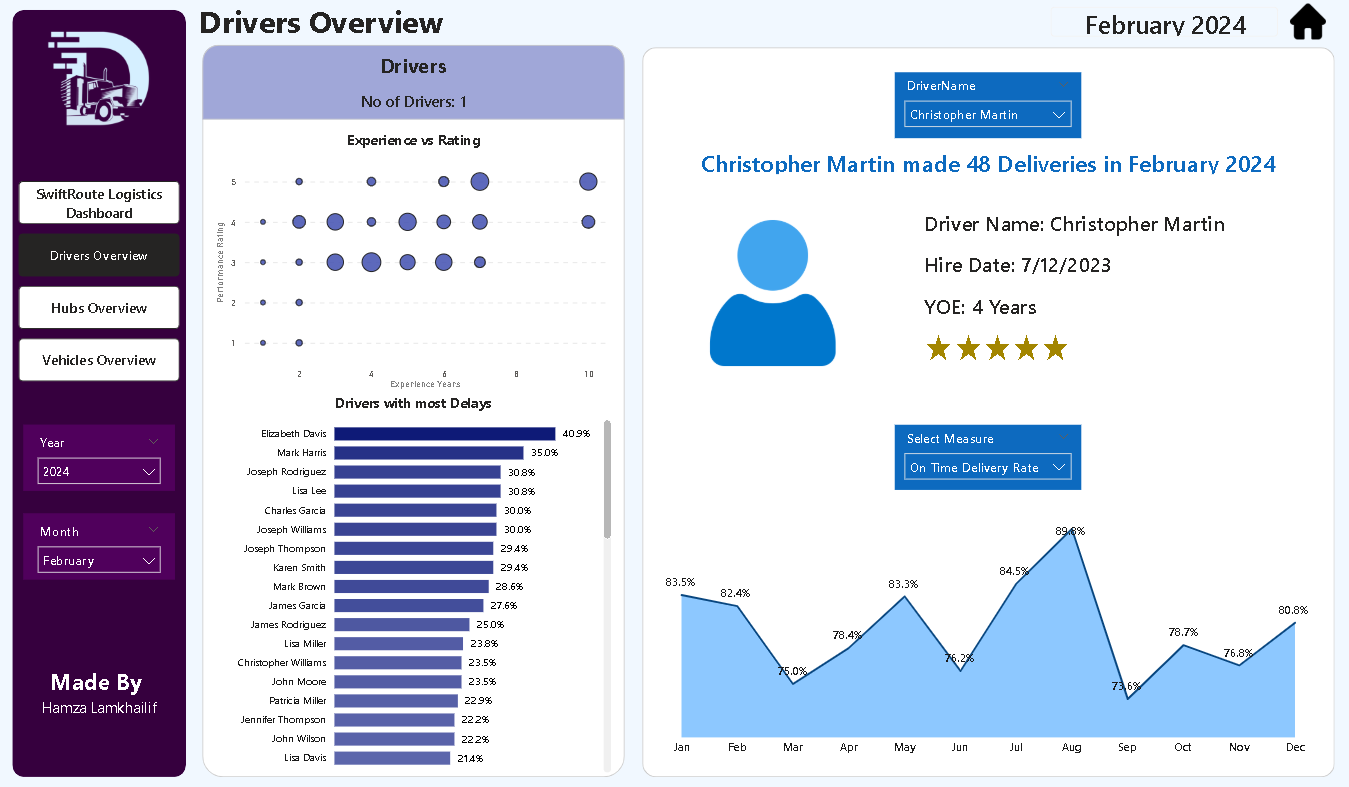

The page's visual inventory and layout, read from the dashboard file:
{"tool":"powerbi","page":{"name":"Drivers Overview","canvas":[1450,850],"ordinal":1},"visuals":[{"type":"shape","box":[17.4,14.7,185.5,819.6],"z":0},{"type":"textbox","box":[212.2,0,279,53.4],"z":1000},{"type":"slicer","fields":{"Values":["Date Table.Year"]},"box":[30,457.7,161.4,70],"z":2000},{"type":"slicer","fields":{"Values":["Date Table.Month"]},"box":[30,552.9,161.4,70],"z":3000},{"type":"shape","box":[220.2,54.7,451.2,779.5],"z":4000},{"type":"shape","box":[220.2,52.1,451.2,80.1],"z":5000},{"type":"textbox","box":[312.3,54.7,267,52.1],"z":6000},{"type":"cardVisual","fields":{"Data":["Drivers.No of Drivers"]},"box":[320.4,93.4,250.9,33.4],"z":7000},{"type":"scatterChart","title":"Experience vs Rating","fields":{"X":["Drivers.Experience Years"],"Y":["Drivers.Performance Rating"],"Size":["Sum(Drivers.Experience Years)1"]},"box":[229.6,142.8,432.5,281.6],"z":8000},{"type":"barChart","title":"Drivers with most Delays","fields":{"Category":["Drivers.DriverName"],"Y":["Orders.Delayed Delivery Rate"]},"box":[229.6,424.5,432.5,409.8],"z":9000},{"type":"image","box":[40,27.1,141.4,131.4],"z":10000},{"type":"cardVisual","fields":{"Data":["Orders.Year Month Title"]},"box":[1121.2,6.7,253.6,42.7],"z":11000},{"type":"shape","box":[690.1,54.7,739.5,779.5],"z":12000},{"type":"slicer","fields":{"Values":["Drivers.DriverName"]},"box":[959.7,81.4,198.9,70.7],"z":13000},{"type":"cardVisual","fields":{"Data":["Drivers.Drivers Title"]},"box":[720.8,157.5,678.1,38.7],"z":14000},{"type":"cardVisual","fields":{"Data":["Drivers.Driver Name Title","Drivers.Hire Date Title","Drivers.YOE","Drivers.Star rating"]},"box":[962.4,205.6,412.5,202.9],"z":15000},{"type":"image","box":[751.5,225.6,156.2,182.9],"z":16000},{"type":"areaChart","fields":{"Y":["Orders.On Time Delivery Rate"],"Category":["Date Table.Month Abr"]},"box":[703.4,552.6,712.8,268.3],"z":17000},{"type":"slicer","fields":{"Values":["Select Measure .Select Measure "]},"box":[959.7,457.8,198.9,69.4],"z":18000},{"type":"image","box":[1372.2,8,57.4,38.7],"z":19000},{"type":"pageNavigator","box":[24,197.6,172.2,216],"z":20000},{"type":"textbox","box":[25.4,710.1,169.5,74.7],"z":20001}]}

Visuals, with their boxes in screenshot pixels (x1, y1, x2, y2), scaled from the page's 1450x850 canvas onto the 1349x787 screenshot:
shape: rect(16, 14, 189, 772)
textbox: rect(197, 0, 457, 49)
slicer - Date Table.Year: rect(28, 424, 178, 489)
slicer - Date Table.Month: rect(28, 512, 178, 577)
shape: rect(205, 51, 625, 772)
shape: rect(205, 48, 625, 122)
textbox: rect(291, 51, 539, 99)
cardVisual - Drivers.No of Drivers: rect(298, 86, 532, 117)
"Experience vs Rating" scatterChart: rect(214, 132, 616, 393)
"Drivers with most Delays" barChart: rect(214, 393, 616, 772)
image: rect(37, 25, 169, 147)
cardVisual - Orders.Year Month Title: rect(1043, 6, 1279, 46)
shape: rect(642, 51, 1330, 772)
slicer - Drivers.DriverName: rect(893, 75, 1078, 141)
cardVisual - Drivers.Drivers Title: rect(671, 146, 1301, 182)
cardVisual - Drivers.Driver Name Title x Drivers.Hire Date Title: rect(895, 190, 1279, 378)
image: rect(699, 209, 844, 378)
areaChart - Orders.On Time Delivery Rate x Date Table.Month Abr: rect(654, 512, 1318, 760)
slicer - Select Measure .Select Measure : rect(893, 424, 1078, 488)
image: rect(1277, 7, 1330, 43)
pageNavigator: rect(22, 183, 183, 383)
textbox: rect(24, 657, 181, 727)
